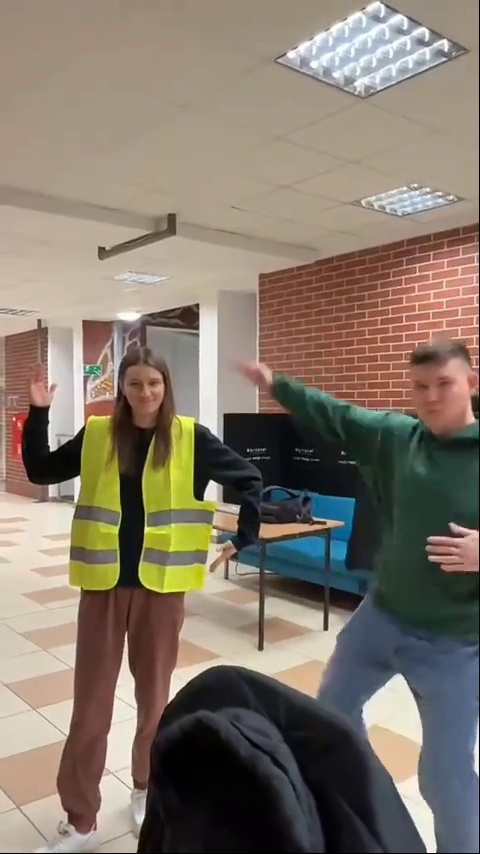no vest: (274, 335, 480, 854)
vest: (21, 333, 266, 815)
